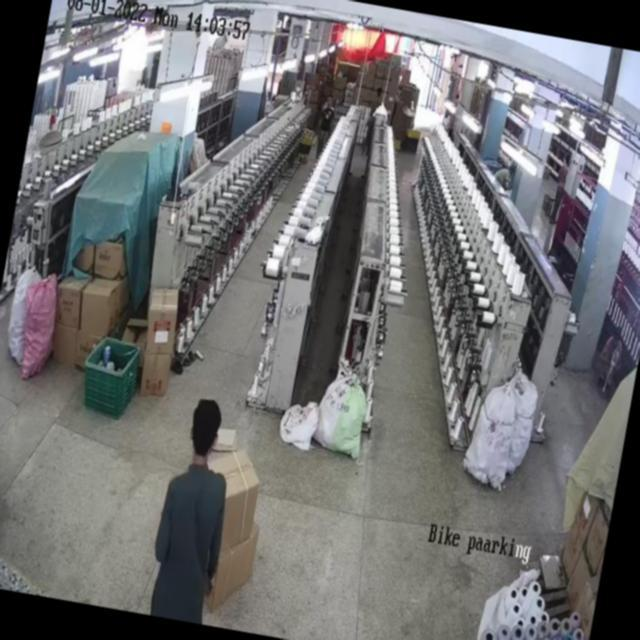person: (145, 395, 244, 623), (316, 92, 338, 144)
